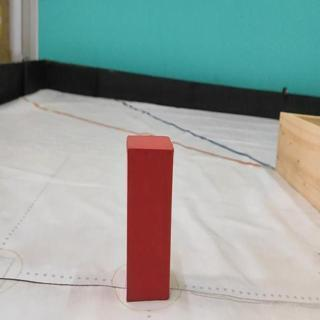redbox: (125, 133, 175, 302)
